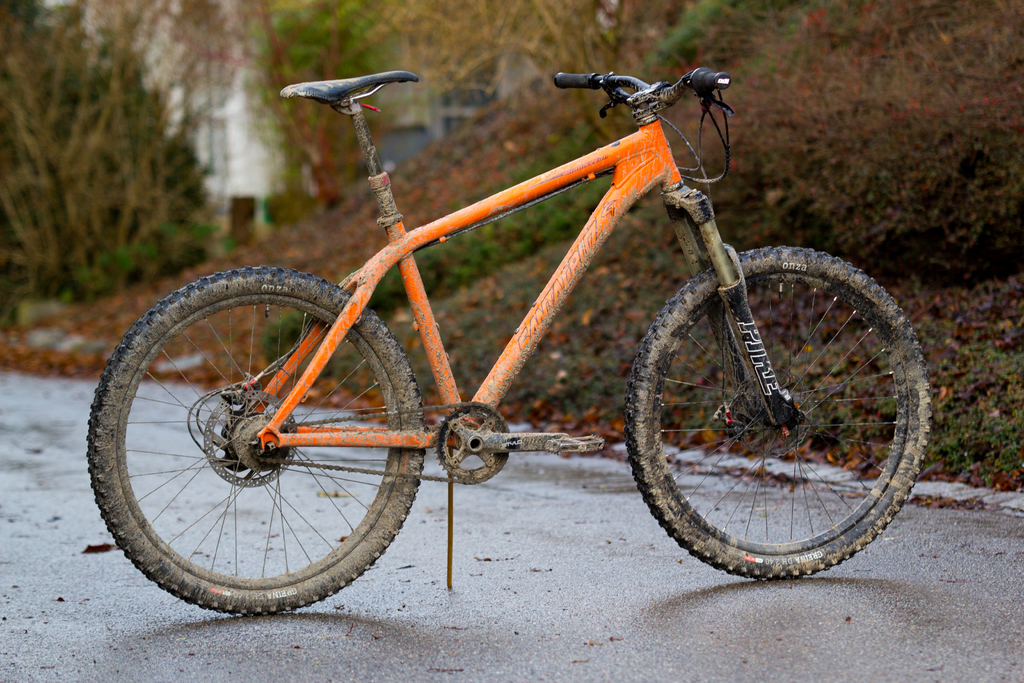Bike: (114, 70, 920, 607)
